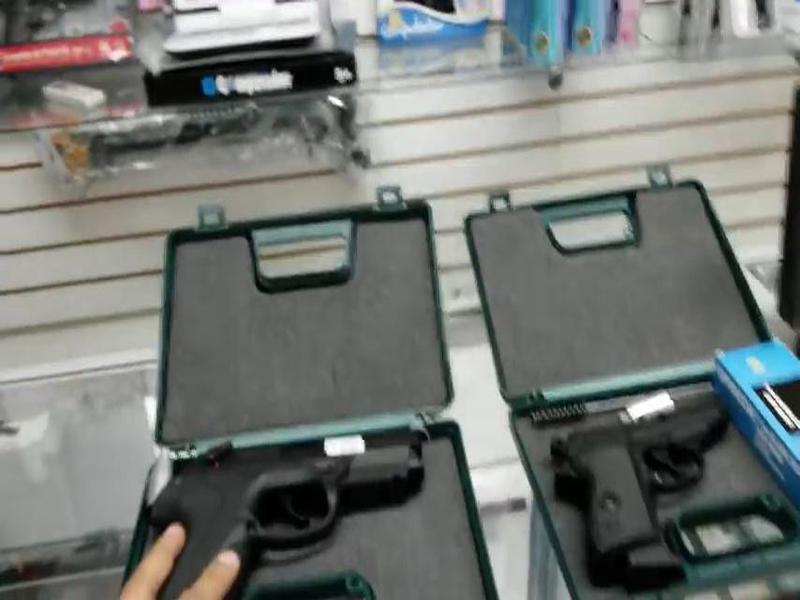Pistola: (134, 424, 432, 600), (546, 391, 761, 594)
